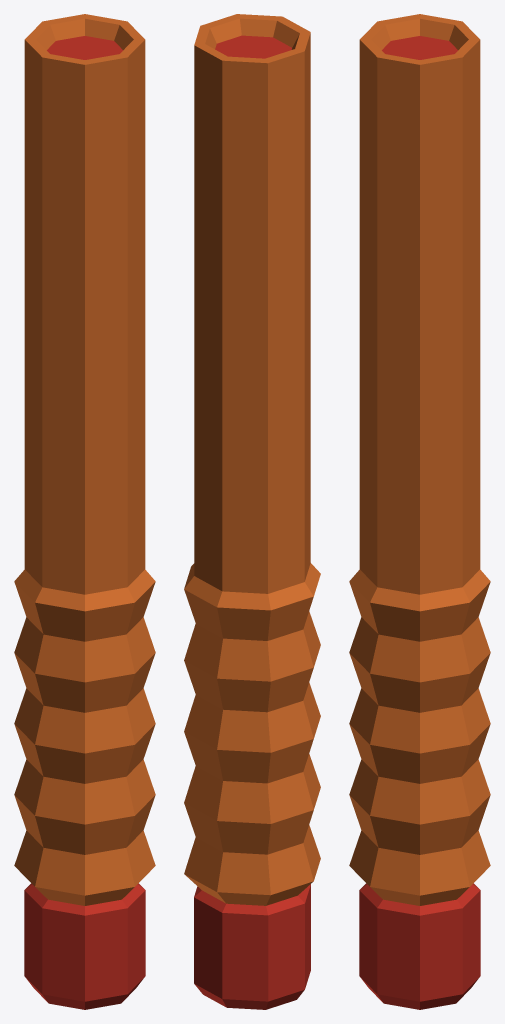
Rendered from Signal_Rocket_mat.fbx.
The picture shows the model from 3 angles, left to right: view 1: azimuth 90°, elevation 25°; view 2: azimuth 150°, elevation 25°; view 3: azimuth 270°, elevation 25°; orthographic projection.
Parts seen in each view (by area): view 1: Signal_Rocket_mat; view 2: Signal_Rocket_mat; view 3: Signal_Rocket_mat.
Boxes of the visible parts, x1=… form: Signal_Rocket_mat: x1=14, y1=14, x2=155, y2=1009; Signal_Rocket_mat: x1=184, y1=14, x2=320, y2=1009; Signal_Rocket_mat: x1=349, y1=14, x2=490, y2=1009.
Bounding box in the file's own units: 3.44 × 25.44 × 3.44.
